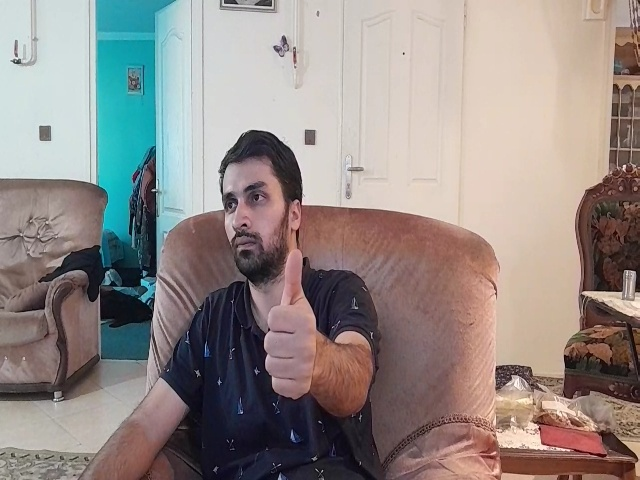ThumbsUp: (264, 248, 317, 404)
